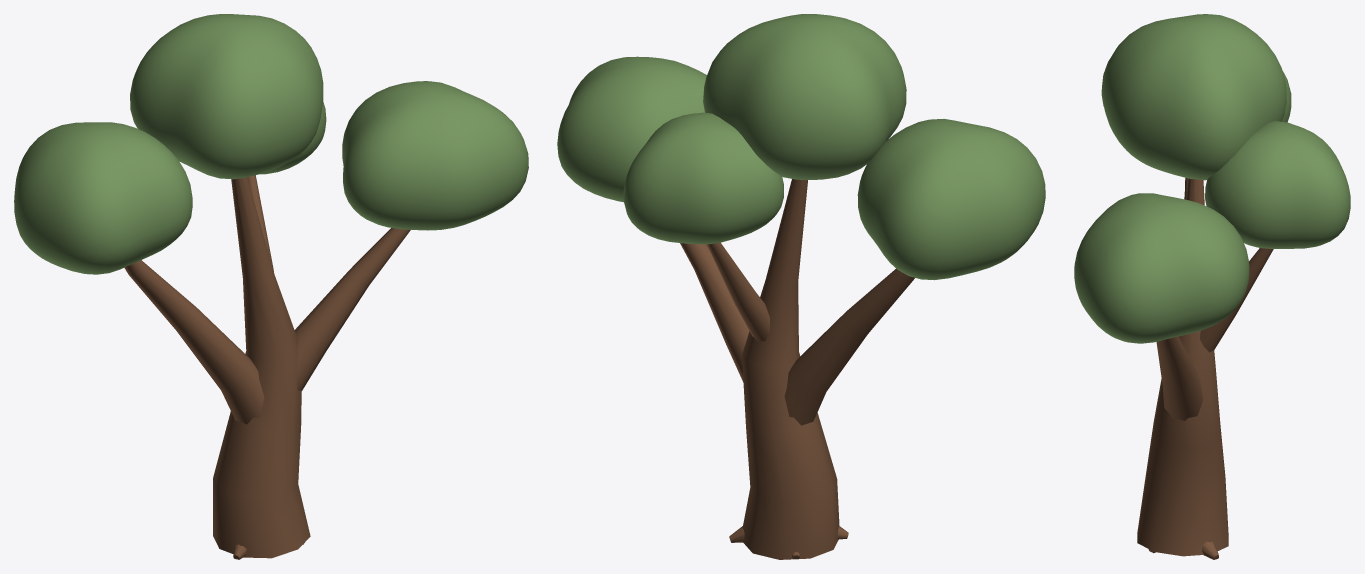
Rendered from deciduous_tree_2.glb.
3 views of the same model, side by side, from view 1: azimuth 30°, elevation 25°; view 2: azimuth 150°, elevation 25°; view 3: azimuth 270°, elevation 25° (orthographic). The views are drawn at different scales.
Visible parts, largest first — view 1: DeciduousTree2; view 2: DeciduousTree2; view 3: DeciduousTree2.
Part boxes in pixels (box(x1,y1,x2,y2)): DeciduousTree2: box(14, 14, 528, 559); DeciduousTree2: box(557, 14, 1045, 559); DeciduousTree2: box(1074, 14, 1350, 559).
Size of the model in its own units: 9.51 by 10 by 4.97.
